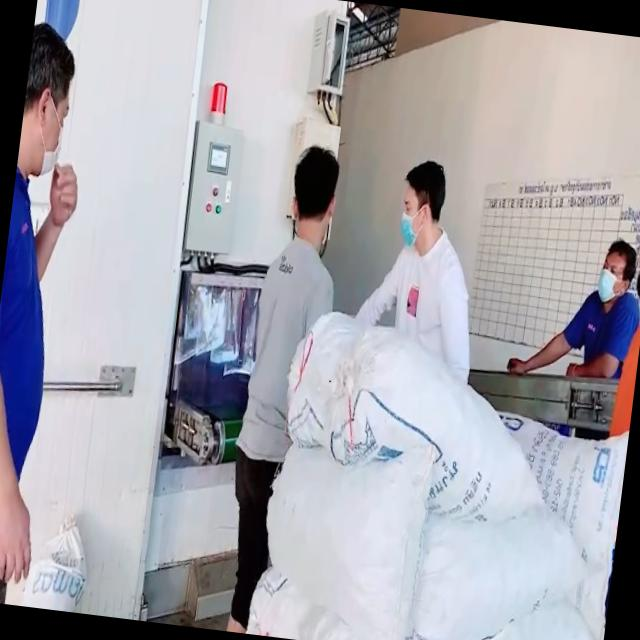ice-bag: (340, 310, 581, 515), (240, 434, 436, 628), (485, 408, 631, 592), (401, 496, 576, 640), (268, 276, 391, 465), (18, 496, 112, 616), (234, 564, 325, 640), (467, 592, 608, 640), (300, 610, 465, 640)
